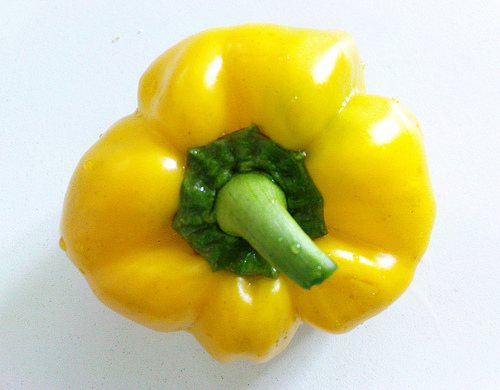capsicum: (57, 22, 439, 365)
